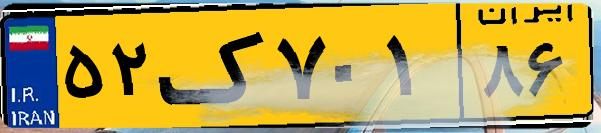0: (330, 28, 385, 110)
1: (385, 28, 445, 110)
2: (110, 28, 158, 98)
5: (57, 26, 110, 100)
6: (525, 38, 570, 115)
7: (270, 28, 330, 110)
8: (475, 38, 525, 113)
ک: (158, 12, 270, 120)
